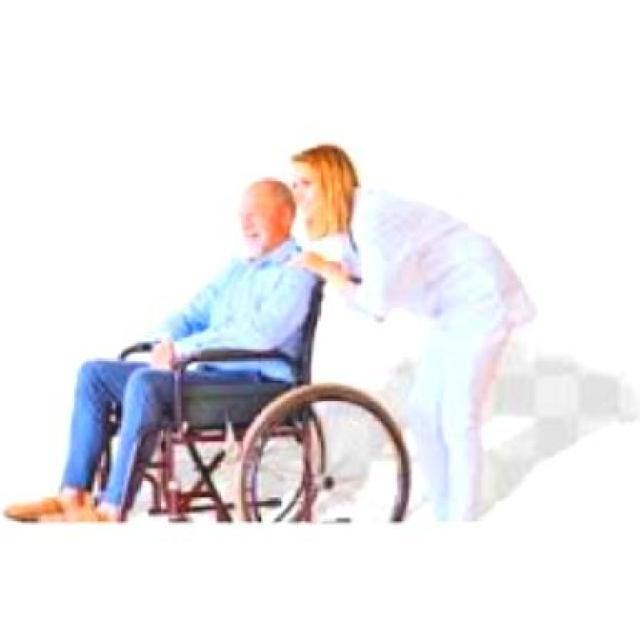wheelchairs: (83, 333, 415, 524)
